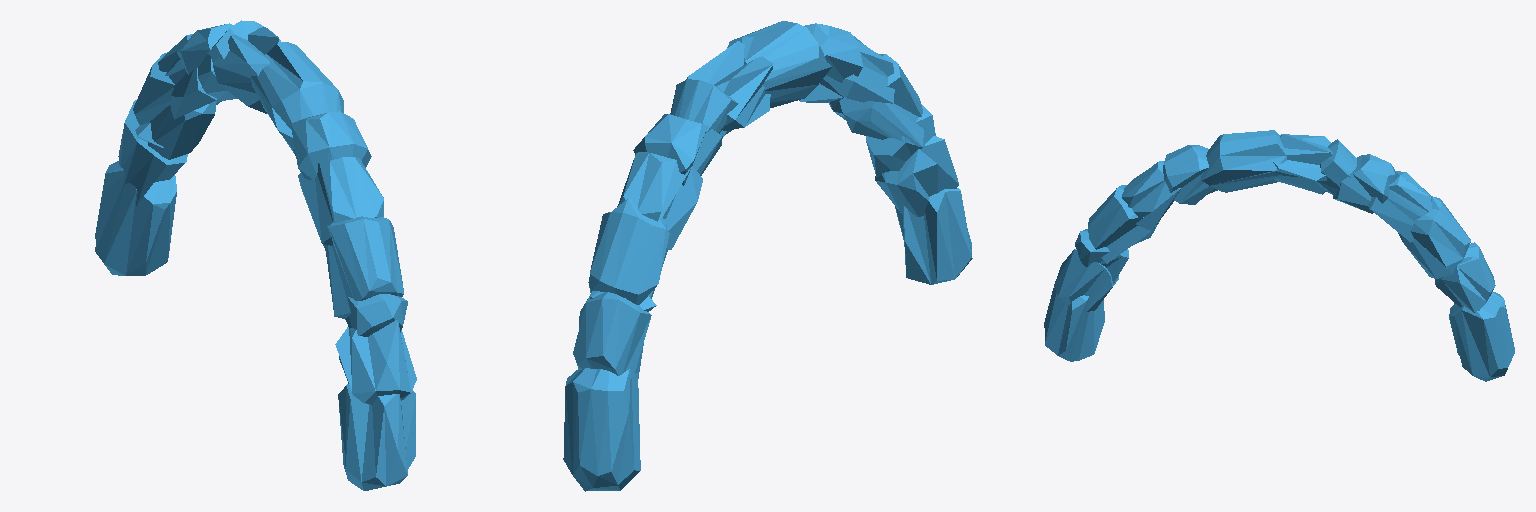
The robot description file, URDF, robot "partnet_af5f4299084775cb4bb0a929135b1b1f":
<?xml version="1.0" ?><robot name="partnet_af5f4299084775cb4bb0a929135b1b1f">
	<link name="base"/>
	<link name="link_0">
		<visual>
			<origin xyz="0.0023399313192821857 -0.4746233130396421 0.02707404824877217"/>
			<geometry>
				<mesh filename="new_objs/100470_link_0_3.obj"/>
			</geometry>
		</visual>
	<visual>
			<origin xyz="0.0023399313192821857 -0.4746233130396421 0.02707404824877217"/>
			<geometry>
				<mesh filename="new_objs/100470_link_0_13.obj"/>
			</geometry>
		</visual>
	<visual>
			<origin xyz="0.0023399313192821857 -0.4746233130396421 0.02707404824877217"/>
			<geometry>
				<mesh filename="new_objs/100470_link_0_0.obj"/>
			</geometry>
		</visual>
	<visual>
			<origin xyz="0.0023399313192821857 -0.4746233130396421 0.02707404824877217"/>
			<geometry>
				<mesh filename="new_objs/100470_link_0_9.obj"/>
			</geometry>
		</visual>
	<visual>
			<origin xyz="0.0023399313192821857 -0.4746233130396421 0.02707404824877217"/>
			<geometry>
				<mesh filename="new_objs/100470_link_0_1.obj"/>
			</geometry>
		</visual>
	<visual>
			<origin xyz="0.0023399313192821857 -0.4746233130396421 0.02707404824877217"/>
			<geometry>
				<mesh filename="new_objs/100470_link_0_12.obj"/>
			</geometry>
		</visual>
	<visual>
			<origin xyz="0.0023399313192821857 -0.4746233130396421 0.02707404824877217"/>
			<geometry>
				<mesh filename="new_objs/100470_link_0_14.obj"/>
			</geometry>
		</visual>
	<visual>
			<origin xyz="0.0023399313192821857 -0.4746233130396421 0.02707404824877217"/>
			<geometry>
				<mesh filename="new_objs/100470_link_0_5.obj"/>
			</geometry>
		</visual>
	<visual>
			<origin xyz="0.0023399313192821857 -0.4746233130396421 0.02707404824877217"/>
			<geometry>
				<mesh filename="new_objs/100470_link_0_6.obj"/>
			</geometry>
		</visual>
	<visual>
			<origin xyz="0.0023399313192821857 -0.4746233130396421 0.02707404824877217"/>
			<geometry>
				<mesh filename="new_objs/100470_link_0_7.obj"/>
			</geometry>
		</visual>
	<visual>
			<origin xyz="0.0023399313192821857 -0.4746233130396421 0.02707404824877217"/>
			<geometry>
				<mesh filename="new_objs/100470_link_0_4.obj"/>
			</geometry>
		</visual>
	<visual>
			<origin xyz="0.0023399313192821857 -0.4746233130396421 0.02707404824877217"/>
			<geometry>
				<mesh filename="new_objs/100470_link_0_10.obj"/>
			</geometry>
		</visual>
	<visual>
			<origin xyz="0.0023399313192821857 -0.4746233130396421 0.02707404824877217"/>
			<geometry>
				<mesh filename="new_objs/100470_link_0_8.obj"/>
			</geometry>
		</visual>
	<visual>
			<origin xyz="0.0023399313192821857 -0.4746233130396421 0.02707404824877217"/>
			<geometry>
				<mesh filename="new_objs/100470_link_0_11.obj"/>
			</geometry>
		</visual>
	<visual>
			<origin xyz="0.0023399313192821857 -0.4746233130396421 0.02707404824877217"/>
			<geometry>
				<mesh filename="new_objs/100470_link_0_2.obj"/>
			</geometry>
		</visual>
	
		<collision>
			<origin xyz="0.0023399313192821857 -0.4746233130396421 0.02707404824877217"/>
			<geometry>
				<mesh filename="new_objs/100470_link_0_3.obj"/>
			</geometry>
		</collision><collision>
			<origin xyz="0.0023399313192821857 -0.4746233130396421 0.02707404824877217"/>
			<geometry>
				<mesh filename="new_objs/100470_link_0_13.obj"/>
			</geometry>
		</collision><collision>
			<origin xyz="0.0023399313192821857 -0.4746233130396421 0.02707404824877217"/>
			<geometry>
				<mesh filename="new_objs/100470_link_0_0.obj"/>
			</geometry>
		</collision><collision>
			<origin xyz="0.0023399313192821857 -0.4746233130396421 0.02707404824877217"/>
			<geometry>
				<mesh filename="new_objs/100470_link_0_9.obj"/>
			</geometry>
		</collision><collision>
			<origin xyz="0.0023399313192821857 -0.4746233130396421 0.02707404824877217"/>
			<geometry>
				<mesh filename="new_objs/100470_link_0_1.obj"/>
			</geometry>
		</collision><collision>
			<origin xyz="0.0023399313192821857 -0.4746233130396421 0.02707404824877217"/>
			<geometry>
				<mesh filename="new_objs/100470_link_0_12.obj"/>
			</geometry>
		</collision><collision>
			<origin xyz="0.0023399313192821857 -0.4746233130396421 0.02707404824877217"/>
			<geometry>
				<mesh filename="new_objs/100470_link_0_14.obj"/>
			</geometry>
		</collision><collision>
			<origin xyz="0.0023399313192821857 -0.4746233130396421 0.02707404824877217"/>
			<geometry>
				<mesh filename="new_objs/100470_link_0_5.obj"/>
			</geometry>
		</collision><collision>
			<origin xyz="0.0023399313192821857 -0.4746233130396421 0.02707404824877217"/>
			<geometry>
				<mesh filename="new_objs/100470_link_0_6.obj"/>
			</geometry>
		</collision><collision>
			<origin xyz="0.0023399313192821857 -0.4746233130396421 0.02707404824877217"/>
			<geometry>
				<mesh filename="new_objs/100470_link_0_7.obj"/>
			</geometry>
		</collision><collision>
			<origin xyz="0.0023399313192821857 -0.4746233130396421 0.02707404824877217"/>
			<geometry>
				<mesh filename="new_objs/100470_link_0_4.obj"/>
			</geometry>
		</collision><collision>
			<origin xyz="0.0023399313192821857 -0.4746233130396421 0.02707404824877217"/>
			<geometry>
				<mesh filename="new_objs/100470_link_0_10.obj"/>
			</geometry>
		</collision><collision>
			<origin xyz="0.0023399313192821857 -0.4746233130396421 0.02707404824877217"/>
			<geometry>
				<mesh filename="new_objs/100470_link_0_8.obj"/>
			</geometry>
		</collision><collision>
			<origin xyz="0.0023399313192821857 -0.4746233130396421 0.02707404824877217"/>
			<geometry>
				<mesh filename="new_objs/100470_link_0_11.obj"/>
			</geometry>
		</collision><collision>
			<origin xyz="0.0023399313192821857 -0.4746233130396421 0.02707404824877217"/>
			<geometry>
				<mesh filename="new_objs/100470_link_0_2.obj"/>
			</geometry>
		</collision></link>
	<joint name="joint_0" type="revolute">
		<origin xyz="-0.0023399313192821857 0.4746233130396421 -0.02707404824877217"/>
		<axis xyz="-1 -0.006 -0.085"/>
		<child link="link_0"/>
		<parent link="link_1"/>
		<limit lower="-1.5707963267948966" upper="1.5707963267948966"/>
	</joint>
	<link name="link_1">
		<collision>
			<origin xyz="0 0 0"/>
			<geometry>
				<mesh filename="new_objs/100470_link_1_7.obj"/>
			</geometry>
		</collision>
		<collision>
			<origin xyz="0 0 0"/>
			<geometry>
				<mesh filename="new_objs/100470_link_1_18.obj"/>
			</geometry>
		</collision>
		<collision>
			<origin xyz="0 0 0"/>
			<geometry>
				<mesh filename="new_objs/100470_link_1_13.obj"/>
			</geometry>
		</collision>
		<collision>
			<origin xyz="0 0 0"/>
			<geometry>
				<mesh filename="new_objs/100470_link_1_23.obj"/>
			</geometry>
		</collision>
		<collision>
			<origin xyz="0 0 0"/>
			<geometry>
				<mesh filename="new_objs/100470_link_1_11.obj"/>
			</geometry>
		</collision>
		<collision>
			<origin xyz="0 0 0"/>
			<geometry>
				<mesh filename="new_objs/100470_link_1_15.obj"/>
			</geometry>
		</collision>
		<collision>
			<origin xyz="0 0 0"/>
			<geometry>
				<mesh filename="new_objs/100470_link_1_25.obj"/>
			</geometry>
		</collision>
		<collision>
			<origin xyz="0 0 0"/>
			<geometry>
				<mesh filename="new_objs/100470_link_1_3.obj"/>
			</geometry>
		</collision>
		<collision>
			<origin xyz="0 0 0"/>
			<geometry>
				<mesh filename="new_objs/100470_link_1_12.obj"/>
			</geometry>
		</collision>
		<collision>
			<origin xyz="0 0 0"/>
			<geometry>
				<mesh filename="new_objs/100470_link_1_9.obj"/>
			</geometry>
		</collision>
		<collision>
			<origin xyz="0 0 0"/>
			<geometry>
				<mesh filename="new_objs/100470_link_1_26.obj"/>
			</geometry>
		</collision>
		<collision>
			<origin xyz="0 0 0"/>
			<geometry>
				<mesh filename="new_objs/100470_link_1_21.obj"/>
			</geometry>
		</collision>
		<collision>
			<origin xyz="0 0 0"/>
			<geometry>
				<mesh filename="new_objs/100470_link_1_0.obj"/>
			</geometry>
		</collision>
		<collision>
			<origin xyz="0 0 0"/>
			<geometry>
				<mesh filename="new_objs/100470_link_1_22.obj"/>
			</geometry>
		</collision>
		<collision>
			<origin xyz="0 0 0"/>
			<geometry>
				<mesh filename="new_objs/100470_link_1_17.obj"/>
			</geometry>
		</collision>
		<collision>
			<origin xyz="0 0 0"/>
			<geometry>
				<mesh filename="new_objs/100470_link_1_5.obj"/>
			</geometry>
		</collision>
		<collision>
			<origin xyz="0 0 0"/>
			<geometry>
				<mesh filename="new_objs/100470_link_1_20.obj"/>
			</geometry>
		</collision>
		<collision>
			<origin xyz="0 0 0"/>
			<geometry>
				<mesh filename="new_objs/100470_link_1_2.obj"/>
			</geometry>
		</collision>
		<collision>
			<origin xyz="0 0 0"/>
			<geometry>
				<mesh filename="new_objs/100470_link_1_16.obj"/>
			</geometry>
		</collision>
		<collision>
			<origin xyz="0 0 0"/>
			<geometry>
				<mesh filename="new_objs/100470_link_1_8.obj"/>
			</geometry>
		</collision>
		<collision>
			<origin xyz="0 0 0"/>
			<geometry>
				<mesh filename="new_objs/100470_link_1_14.obj"/>
			</geometry>
		</collision>
		<collision>
			<origin xyz="0 0 0"/>
			<geometry>
				<mesh filename="new_objs/100470_link_1_6.obj"/>
			</geometry>
		</collision>
		<collision>
			<origin xyz="0 0 0"/>
			<geometry>
				<mesh filename="new_objs/100470_link_1_4.obj"/>
			</geometry>
		</collision>
		<collision>
			<origin xyz="0 0 0"/>
			<geometry>
				<mesh filename="new_objs/100470_link_1_10.obj"/>
			</geometry>
		</collision>
		<collision>
			<origin xyz="0 0 0"/>
			<geometry>
				<mesh filename="new_objs/100470_link_1_24.obj"/>
			</geometry>
		</collision>
		<collision>
			<origin xyz="0 0 0"/>
			<geometry>
				<mesh filename="new_objs/100470_link_1_19.obj"/>
			</geometry>
		</collision>
		<collision>
			<origin xyz="0 0 0"/>
			<geometry>
				<mesh filename="new_objs/100470_link_1_1.obj"/>
			</geometry>
		</collision>
		<visual name="base_body-part[&quot;id]">
			<origin xyz="0 0 0"/>
			<geometry>
				<mesh filename="textured_objs/original-4.obj"/>
			</geometry>
		</visual>
		<visual name="base_body-part[&quot;id]">
			<origin xyz="0 0 0"/>
			<geometry>
				<mesh filename="textured_objs/original-3.obj"/>
			</geometry>
		</visual>
		<visual name="base_body-part[&quot;id]">
			<origin xyz="0 0 0"/>
			<geometry>
				<mesh filename="textured_objs/original-2.obj"/>
			</geometry>
		</visual>
		<visual name="base_body-part[&quot;id]">
			<origin xyz="0 0 0"/>
			<geometry>
				<mesh filename="textured_objs/original-5.obj"/>
			</geometry>
		</visual>
		<visual name="base_body-part[&quot;id]">
			<origin xyz="0 0 0"/>
			<geometry>
				<mesh filename="textured_objs/original-1.obj"/>
			</geometry>
		</visual>
		</link>
	<joint name="joint_1" type="fixed">
		<origin rpy="1.570796326794897 0 -1.570796326794897" xyz="0 0 0"/>
		<child link="link_1"/>
		<parent link="base"/>
	</joint>
</robot>

--- Facts derived from the render (not from the file) ---
The picture shows the robot from 3 angles, left to right: view 1: azimuth 30°, elevation 25°; view 2: azimuth 150°, elevation 25°; view 3: azimuth 270°, elevation 25°; orthographic projection.
Model partnet_af5f4299084775cb4bb0a929135b1b1f with 3 links and 2 joints (1 revolute, 1 fixed), rooted at base, posed every joint at zero.
Visible links, largest first — view 1: link_0; view 2: link_0; view 3: link_0.
Boxes of the visible links, bbox=[...] form: link_0: bbox=[95, 20, 416, 490]; link_0: bbox=[563, 21, 972, 491]; link_0: bbox=[1044, 130, 1514, 381].
Size in the robot's own frame: 0.2501 by 1.18 by 0.6811 metres.
15 mesh visuals loaded from 20 distinct referenced files (15 OBJ); not drawn: 5 (reference not matched to a file when rendering).
